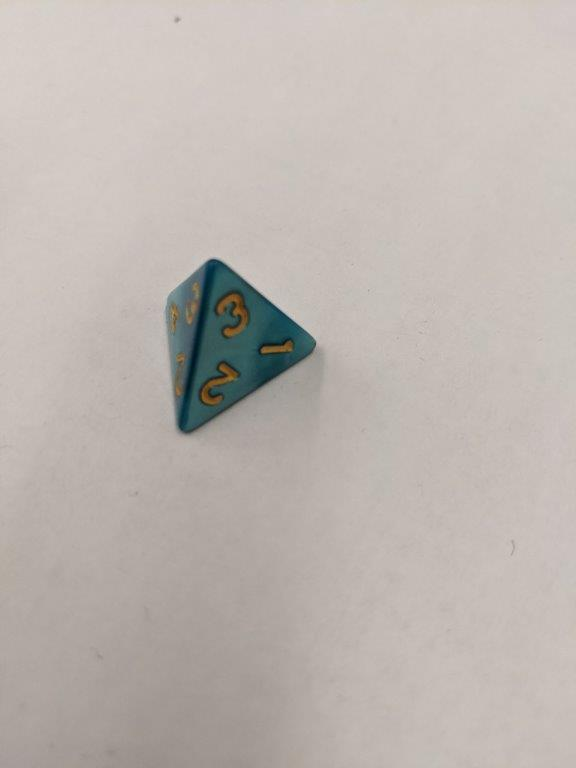d4-3: (162, 257, 318, 438)
